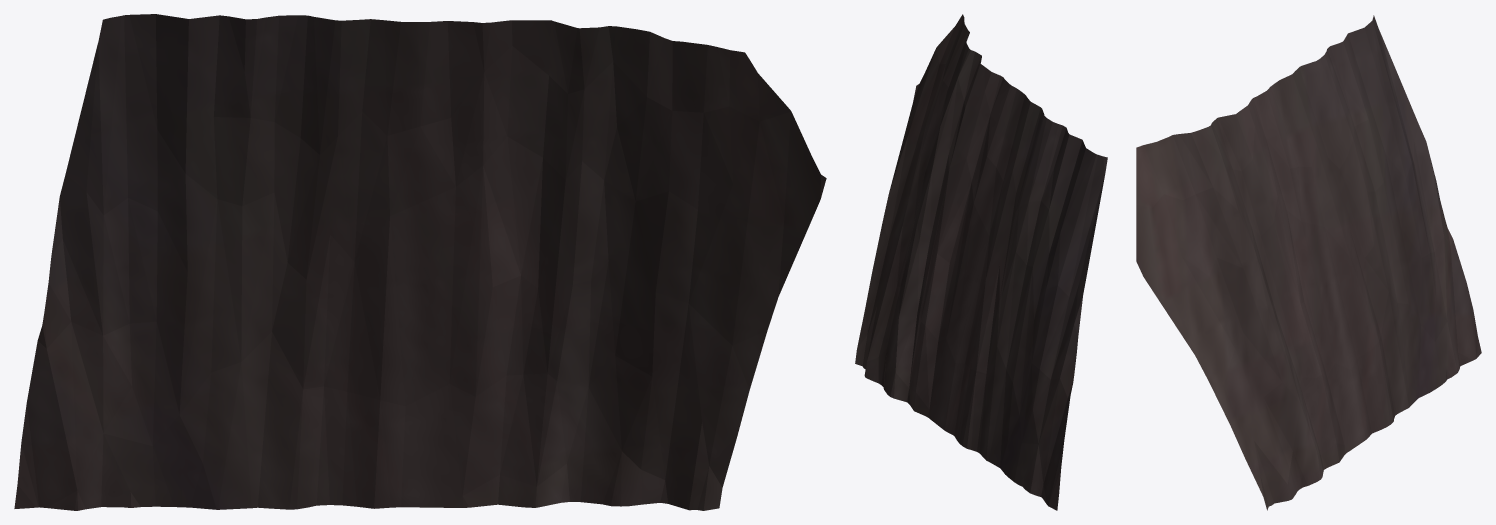
The picture shows the model from 3 angles, left to right: view 1: azimuth 30°, elevation 25°; view 2: azimuth 150°, elevation 25°; view 3: azimuth 270°, elevation 25°; orthographic projection. The views are drawn at different scales.
Parts seen in each view (by area): view 1: 091_W_Aya_100K_01; view 2: 091_W_Aya_100K_01; view 3: 091_W_Aya_100K_01.
Part boxes in pixels (x1,y1,x2,y2): 091_W_Aya_100K_01: [14, 14, 826, 510]; 091_W_Aya_100K_01: [855, 14, 1107, 510]; 091_W_Aya_100K_01: [1136, 15, 1481, 510].
Size of the model in its own units: 42.87 by 42.87 by 39.62.
1 material, 1 textured.
